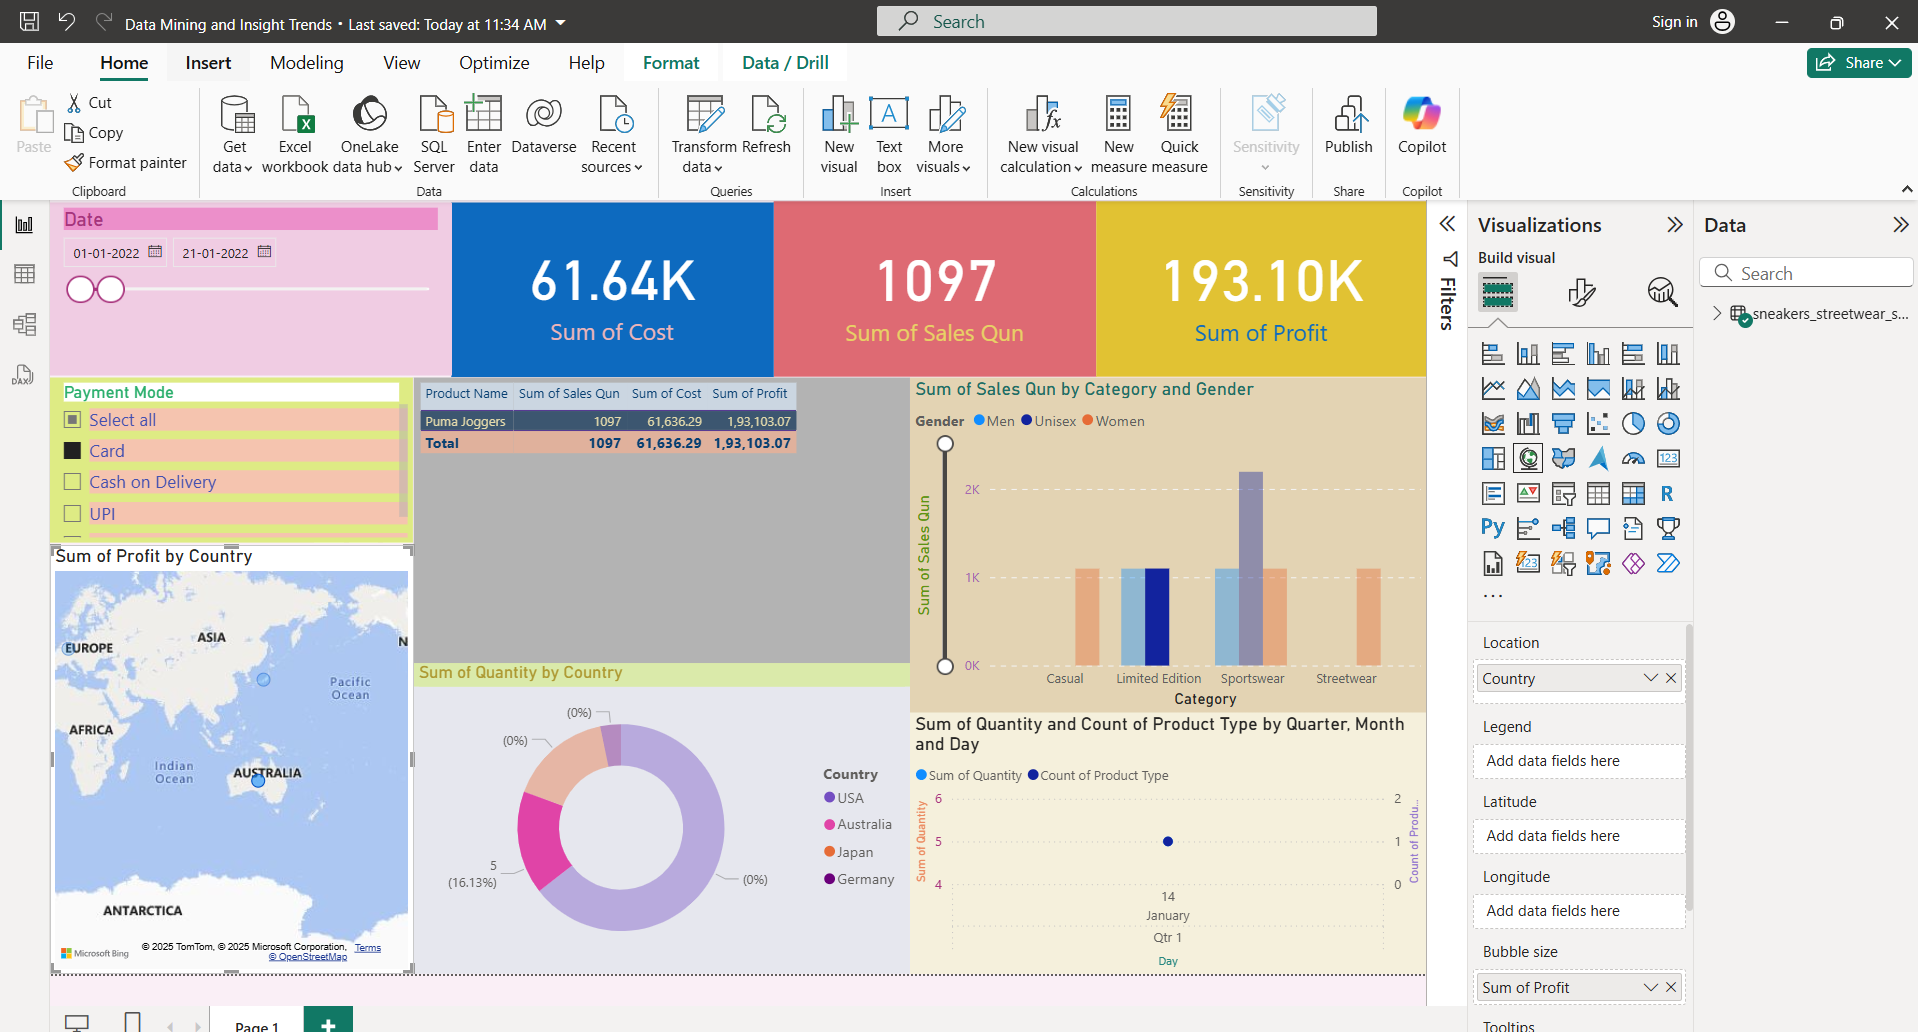

What the dashboard file says about the page in this screenshot:
{"tool":"powerbi","page":{"name":"Page 1","canvas":[1280,720],"ordinal":0},"visuals":[{"type":"card","fields":{"Values":["Sum(sneakers_streetwear_sales_data.Sum of Sales Quantity)"]},"box":[673.3,1.2,299.8,163.4],"z":0},{"type":"card","fields":{"Values":["Sum(sneakers_streetwear_sales_data.Sum of Cost Unit Price)"]},"box":[373.5,2.5,299.8,162.2],"z":1000},{"type":"card","fields":{"Values":["Sum(sneakers_streetwear_sales_data.Sum of Profit Amount)"]},"box":[973.1,1.2,307.2,163.4],"z":2000},{"type":"clusteredColumnChart","fields":{"Category":["sneakers_streetwear_sales_data.Category","sneakers_streetwear_sales_data.Date.Variation.Date Hierarchy.Year","sneakers_streetwear_sales_data.Date.Variation.Date Hierarchy.Quarter"],"Y":["Sum(sneakers_streetwear_sales_data.Sales Qun)"],"Series":["sneakers_streetwear_sales_data.Gender"]},"box":[800,165.1,480.2,311.6],"z":3000},{"type":"lineChart","fields":{"Category":["sneakers_streetwear_sales_data.Date.Variation.Date Hierarchy.Quarter","sneakers_streetwear_sales_data.Date.Variation.Date Hierarchy.Month","sneakers_streetwear_sales_data.Date.Variation.Date Hierarchy.Day"],"Y2":["CountNonNull(sneakers_streetwear_sales_data.Product Type)"],"Y":["Sum(sneakers_streetwear_sales_data.Quantity)"]},"box":[799.8,476.7,480.4,243.3],"z":4000},{"type":"donutChart","fields":{"Y":["Sum(sneakers_streetwear_sales_data.Quantity)"],"Category":["sneakers_streetwear_sales_data.Country"]},"box":[337.9,430,462,290],"z":5000},{"type":"tableEx","fields":{"Values":["sneakers_streetwear_sales_data.Product Name","Sum(sneakers_streetwear_sales_data.Sales Quantity)","Sum(sneakers_streetwear_sales_data.Cost Unit Price)","Sum(sneakers_streetwear_sales_data.Profit Amount)"]},"box":[337.9,164.6,462,265.4],"z":6000},{"type":"map","fields":{"Category":["sneakers_streetwear_sales_data.Country"],"Size":["Sum(sneakers_streetwear_sales_data.Profit)"]},"box":[0,320.7,337.9,399.3],"z":7000},{"type":"slicer","fields":{"Values":["sneakers_streetwear_sales_data.Payment Mode"]},"box":[0,164.6,337.9,153.6],"z":8000},{"type":"slicer","fields":{"Values":["sneakers_streetwear_sales_data.Date"]},"box":[0,2.5,373.5,161],"z":9000}]}

Visuals, with their boxes on the page's 1280x720 design canvas (x1, y1, x2, y2). These are canvas units, not pixel positions in the 1918x1032 screenshot, which may show the page scaled, cropped or inside an application window:
card - Sum(sneakers_streetwear_sales_data.Sum of Sales Quantity): pyautogui.locateOnScreen(673, 1, 973, 165)
card - Sum(sneakers_streetwear_sales_data.Sum of Cost Unit Price): pyautogui.locateOnScreen(374, 2, 673, 165)
card - Sum(sneakers_streetwear_sales_data.Sum of Profit Amount): pyautogui.locateOnScreen(973, 1, 1280, 165)
clusteredColumnChart - sneakers_streetwear_sales_data.Category x sneakers_streetwear_sales_data.Date.Variation.Date Hierarchy.Year: pyautogui.locateOnScreen(800, 165, 1280, 477)
lineChart - sneakers_streetwear_sales_data.Date.Variation.Date Hierarchy.Quarter x sneakers_streetwear_sales_data.Date.Variation.Date Hierarchy.Month: pyautogui.locateOnScreen(800, 477, 1280, 720)
donutChart - Sum(sneakers_streetwear_sales_data.Quantity) x sneakers_streetwear_sales_data.Country: pyautogui.locateOnScreen(338, 430, 800, 720)
tableEx - sneakers_streetwear_sales_data.Product Name x Sum(sneakers_streetwear_sales_data.Sales Quantity): pyautogui.locateOnScreen(338, 165, 800, 430)
map - sneakers_streetwear_sales_data.Country x Sum(sneakers_streetwear_sales_data.Profit): pyautogui.locateOnScreen(0, 321, 338, 720)
slicer - sneakers_streetwear_sales_data.Payment Mode: pyautogui.locateOnScreen(0, 165, 338, 318)
slicer - sneakers_streetwear_sales_data.Date: pyautogui.locateOnScreen(0, 2, 374, 164)
